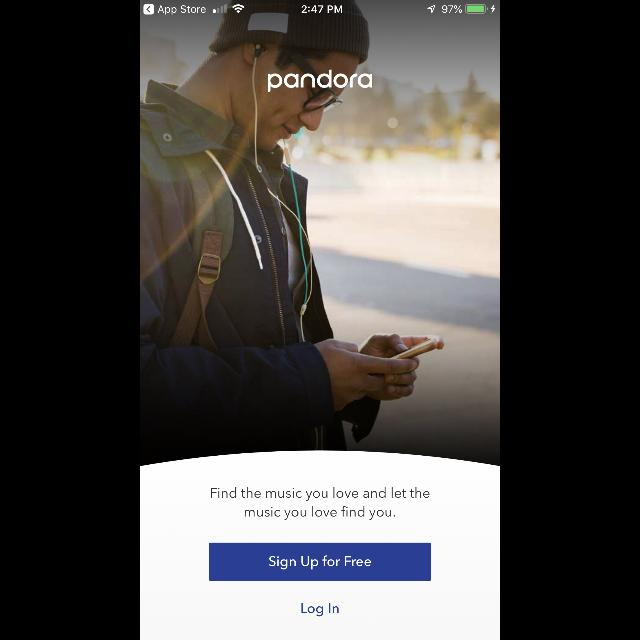image: (140, 0, 500, 466)
text: (211, 486, 429, 520), (268, 70, 372, 92), (302, 604, 338, 616)
textbutton: (209, 543, 431, 581)
uppertaskbar: (140, 1, 500, 15)
